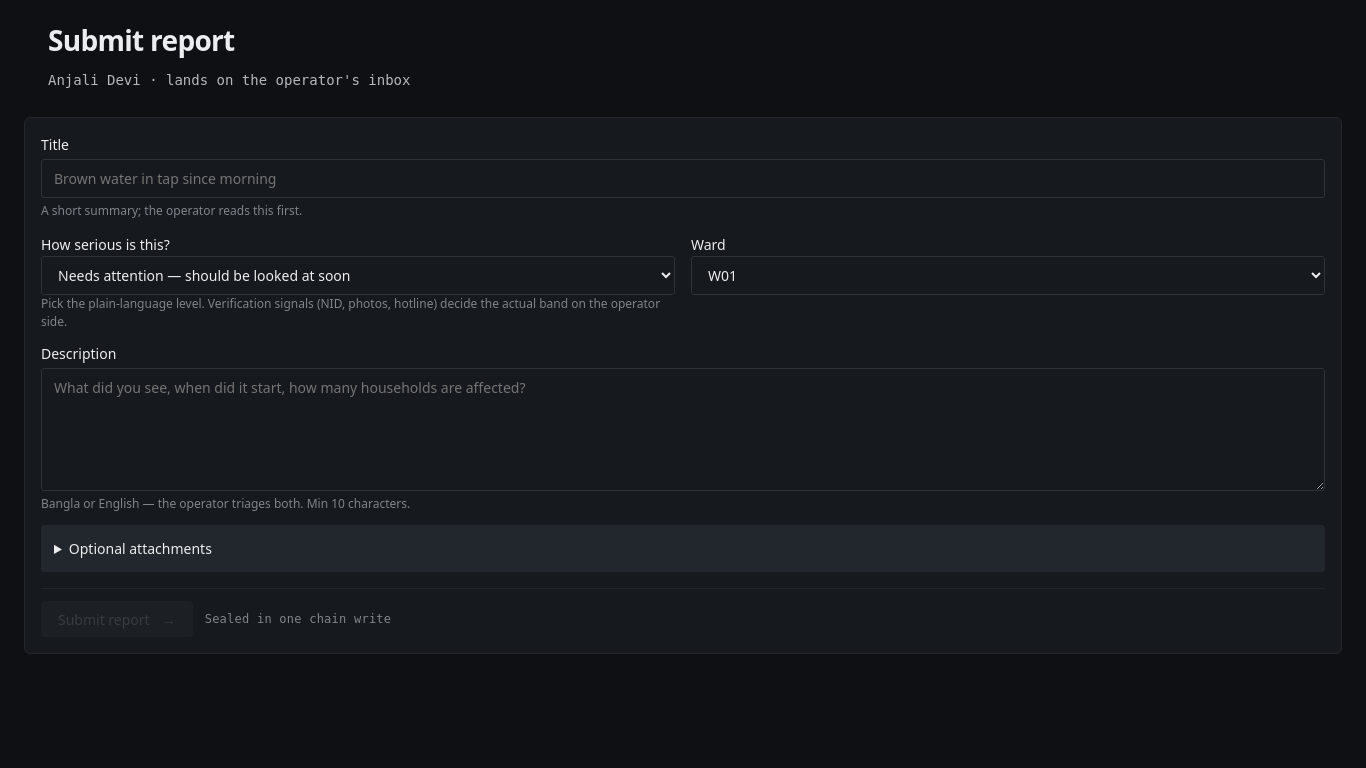
Test: WO-011 Submit Report Page reconciliation › ack surface enumerates the SMS + portal channels
Type "Brown water in ward 4" into the field with test id "submit-title" at (683, 179), box [41, 159, 1325, 198]
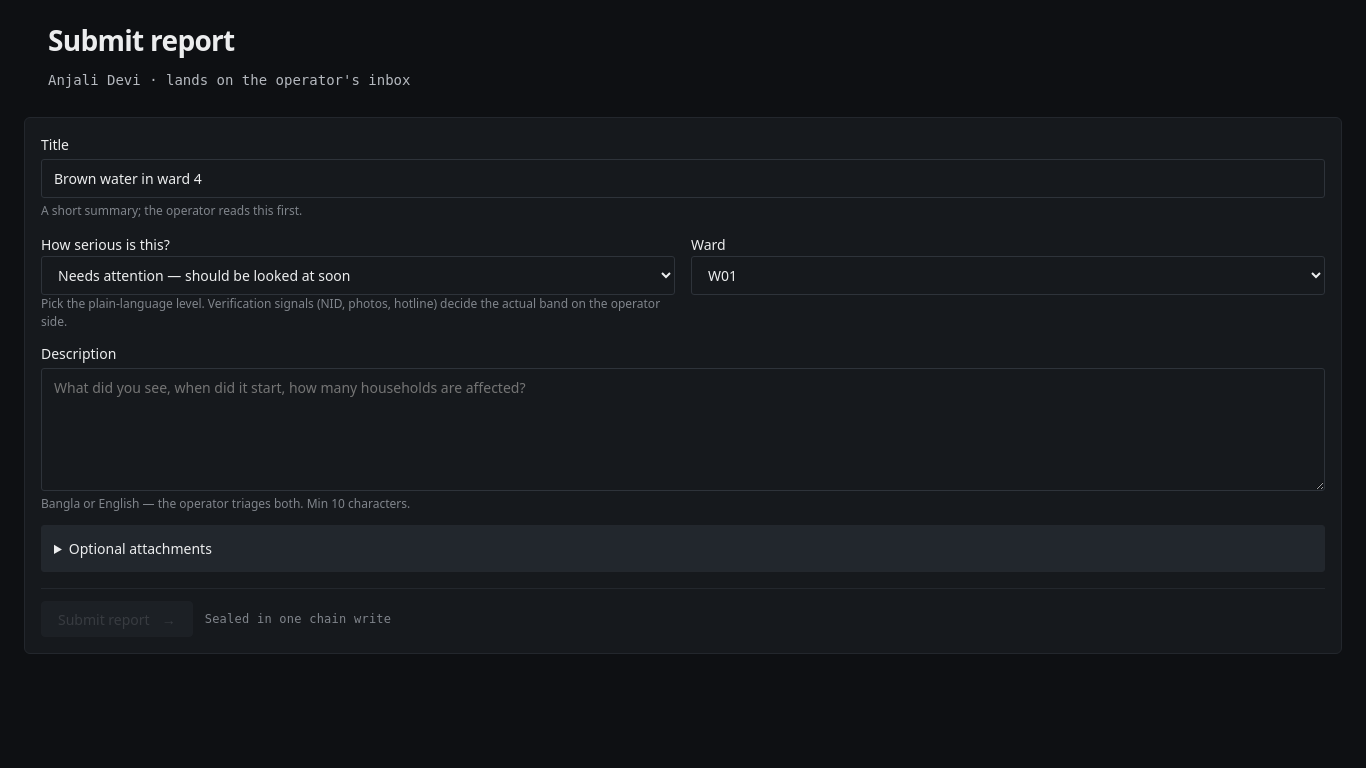
Replace the text in the text box with test id "submit-description" with "Reported by 3 households since 6am." at (683, 430), box [41, 368, 1325, 491]
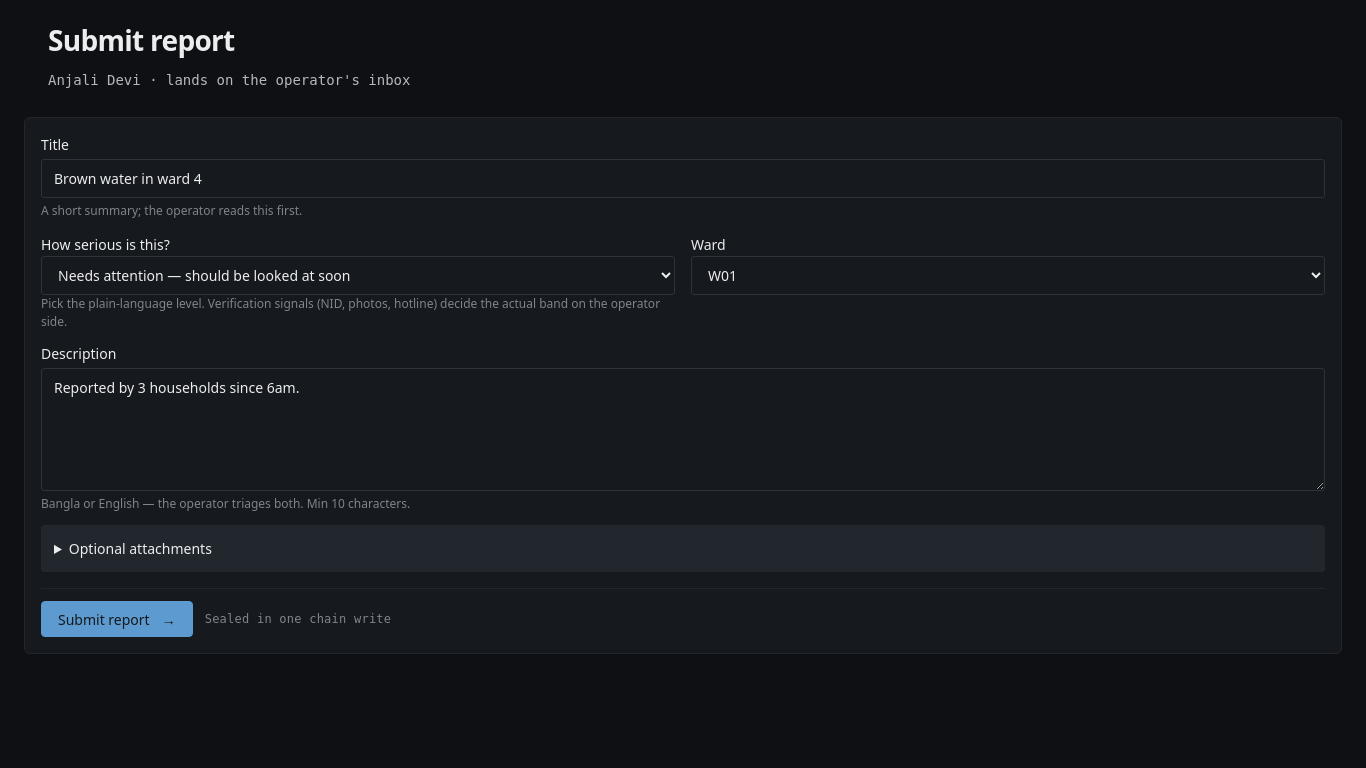
Click the button with test id "submit-submit" at (117, 619), box [41, 601, 193, 637]
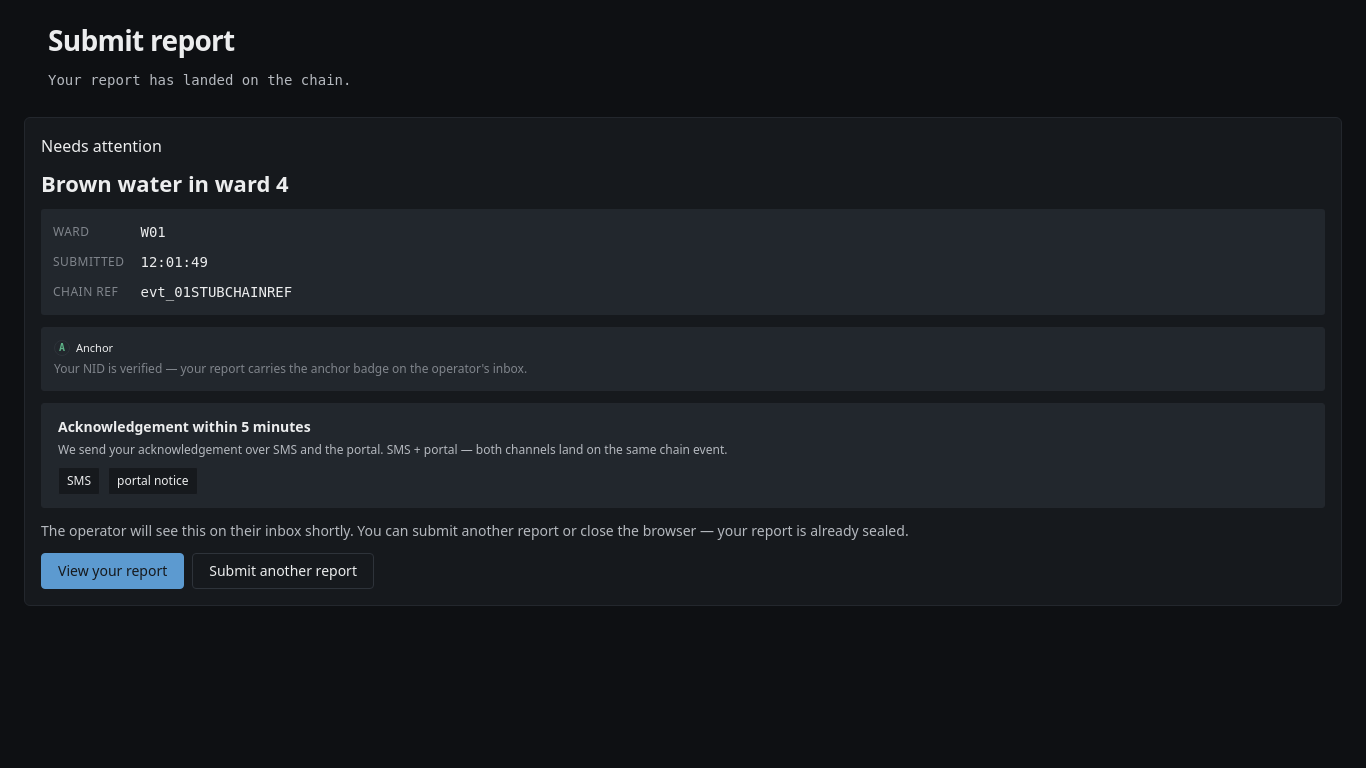
Result: the element with test id "submit-receipt-ack" is shown at [41, 403, 1325, 508]
Result: the list item "SMS" is shown at [58, 467, 100, 495]
Result: the list item "portal notice" is shown at [108, 467, 198, 495]
